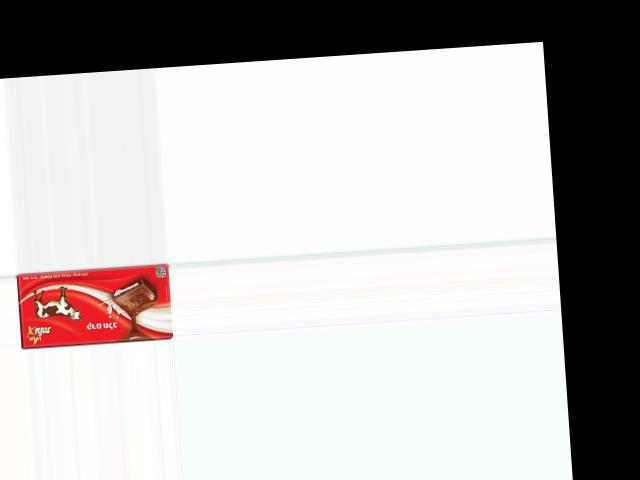chocolate: (13, 262, 173, 349)
